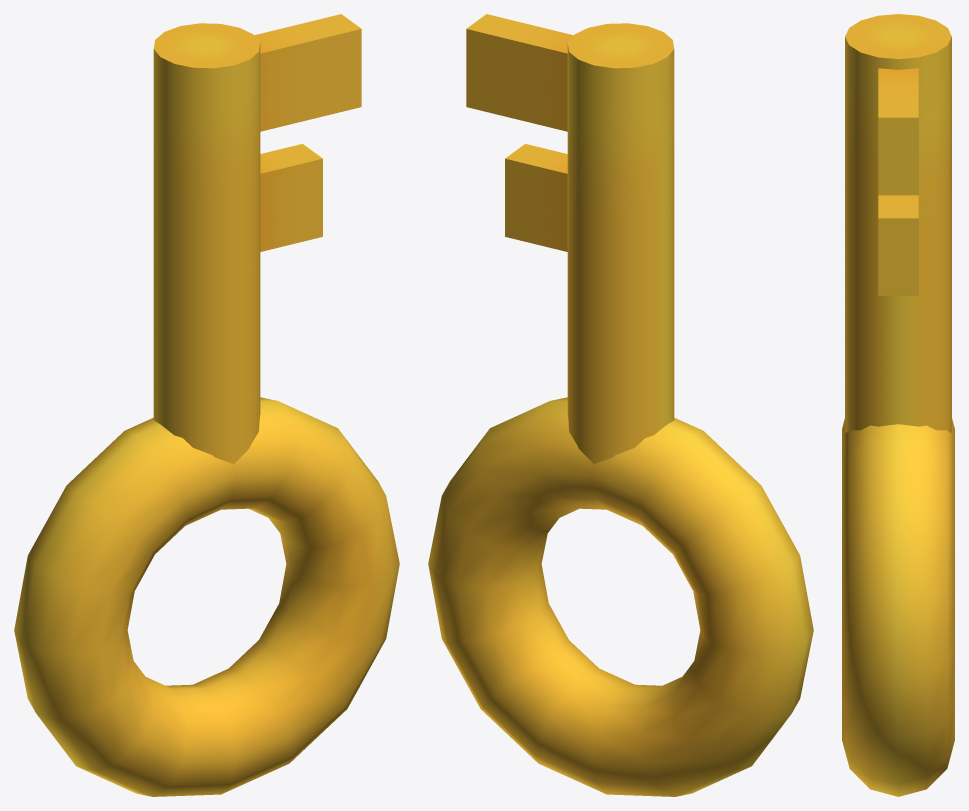
Rendered from ENV2010075.fbx.
3 views of the same model, side by side, from view 1: azimuth 30°, elevation 25°; view 2: azimuth 150°, elevation 25°; view 3: azimuth 270°, elevation 25° (orthographic).
Parts seen in each view (by area): view 1: smENV2010075; view 2: smENV2010075; view 3: smENV2010075.
Boxes of the visible parts, left/top/right/bottom form: smENV2010075: left=14, top=14, right=399, bottom=796; smENV2010075: left=428, top=14, right=813, bottom=796; smENV2010075: left=842, top=14, right=954, bottom=796.
Bounding box in the file's own units: 3.14 × 6.04 × 0.8338.
1 material, 1 textured.
